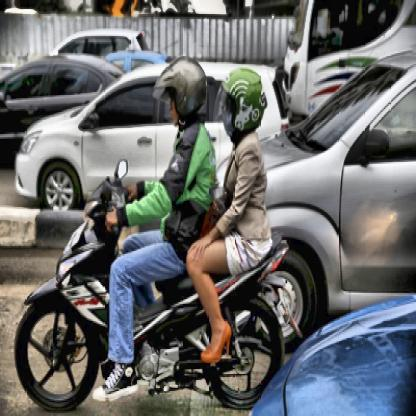wear: (221, 64, 264, 143), (162, 55, 204, 126)
